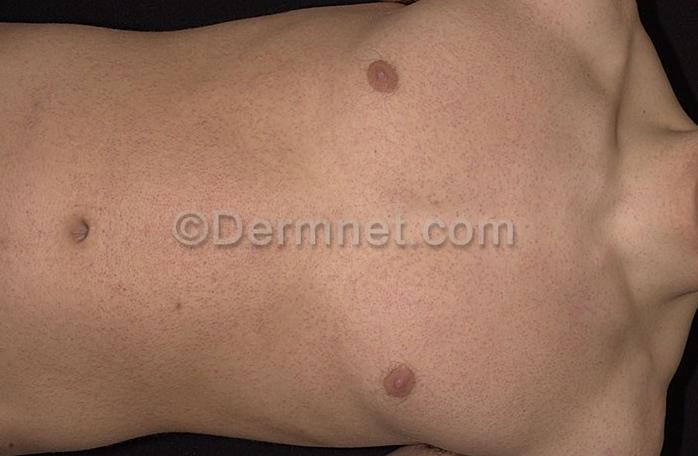edema 1: (0, 6, 654, 456)
